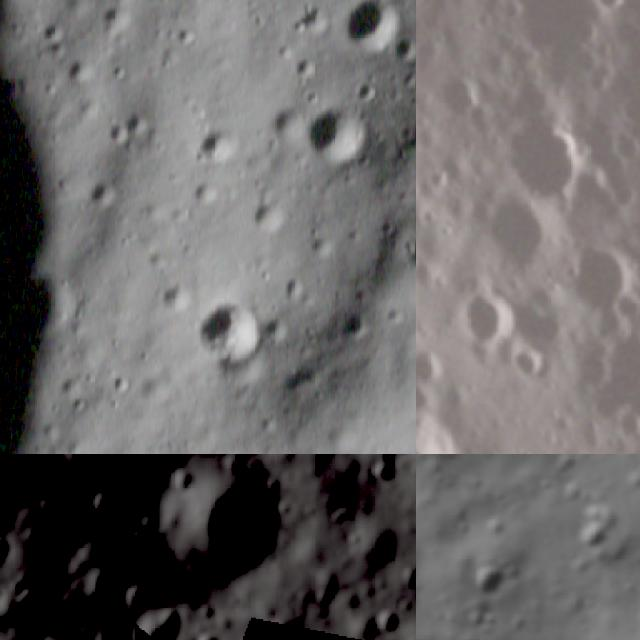crater: (559, 0, 640, 335), (169, 461, 297, 593), (486, 98, 609, 226), (461, 166, 579, 292), (540, 214, 640, 334), (428, 262, 534, 373), (192, 291, 265, 374), (65, 563, 149, 625), (293, 96, 361, 166), (496, 328, 564, 396), (567, 503, 629, 564), (459, 554, 518, 613), (344, 0, 403, 52), (111, 603, 190, 640), (416, 326, 453, 397), (194, 123, 239, 171), (85, 479, 128, 526), (458, 597, 504, 640), (480, 506, 519, 548), (289, 0, 332, 38), (94, 4, 140, 35), (248, 198, 286, 234), (367, 602, 403, 640), (303, 230, 345, 259), (82, 178, 117, 207), (97, 115, 128, 147), (617, 461, 640, 504), (33, 17, 70, 43), (62, 56, 96, 82), (286, 57, 319, 82), (167, 22, 198, 46), (0, 533, 16, 579), (352, 146, 376, 174), (135, 454, 175, 470), (394, 33, 416, 62), (348, 82, 377, 104), (394, 118, 416, 147), (126, 110, 146, 138), (106, 373, 131, 395), (536, 471, 558, 496), (402, 238, 416, 277), (42, 41, 74, 58), (154, 54, 176, 74), (367, 125, 389, 144), (108, 60, 128, 80), (274, 40, 292, 62), (300, 89, 320, 108)
